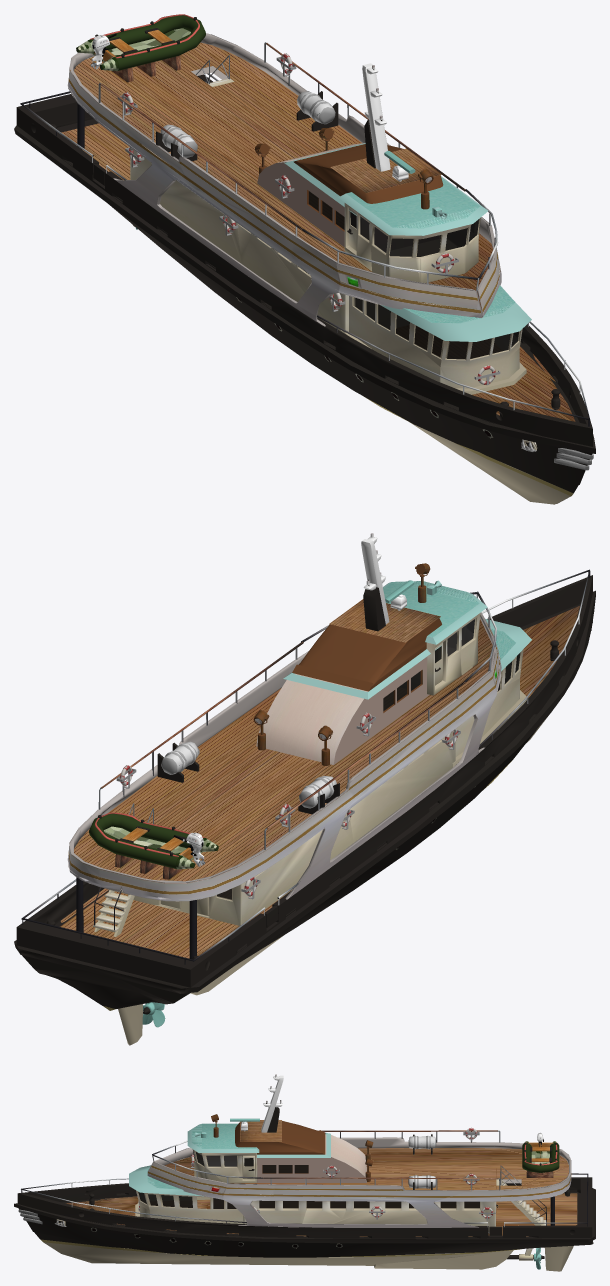
The model's file is yate.glb.
3 renders of one model, top to bottom at view 1: azimuth 30°, elevation 25°; view 2: azimuth 150°, elevation 25°; view 3: azimuth 270°, elevation 25°, orthographic. The views are drawn at different scales.
Parts seen in each view (by area): view 1: norm; view 2: norm; view 3: norm.
Part boxes in pixels (x1=…): norm: x1=14, y1=14, x2=595, y2=504; norm: x1=14, y1=533, x2=595, y2=1045; norm: x1=14, y1=1074, x2=595, y2=1271.
Size of the model in its own units: 4.75 by 8.19 by 22.
Materials: 28 (26 with a texture image).
